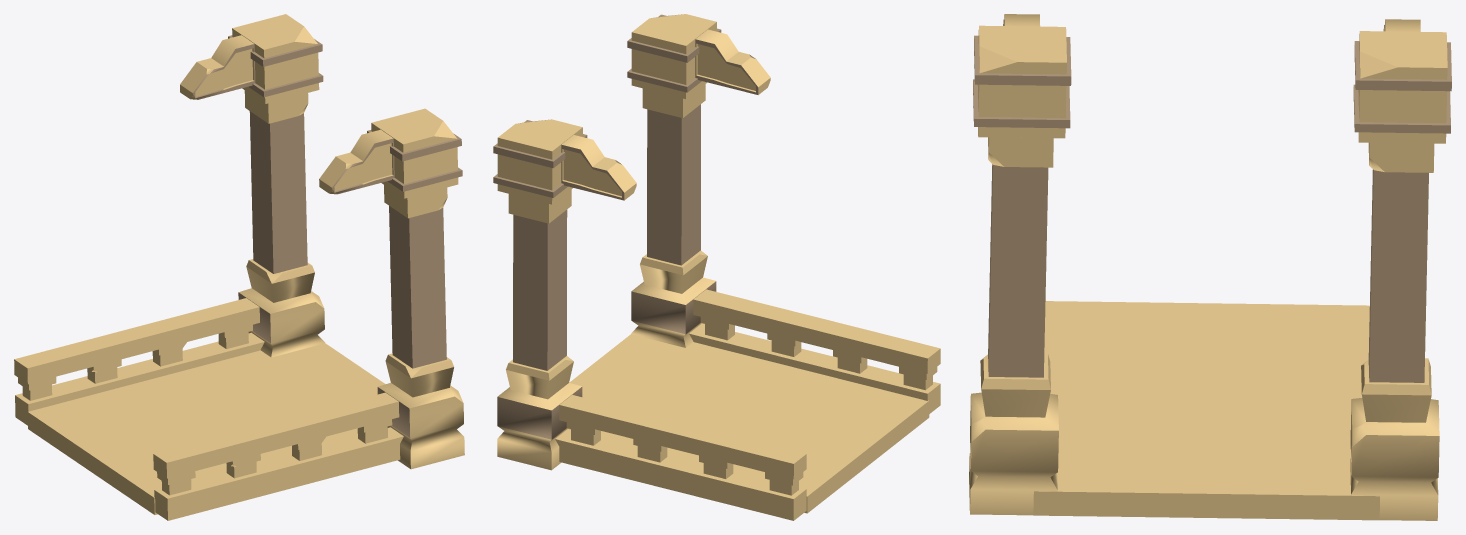
Rendered from platform  2 .fbx.
The picture shows the model from 3 angles, left to right: view 1: azimuth 30°, elevation 25°; view 2: azimuth 150°, elevation 25°; view 3: azimuth 270°, elevation 25°; orthographic projection. The views are drawn at different scales.
Visible parts, largest first — view 1: pCube17.020; view 2: pCube17.020; view 3: pCube17.020.
Boxes of the visible parts, x1,y1,x2,y2 form: pCube17.020: (14,14,464,520); pCube17.020: (493,14,940,520); pCube17.020: (969,14,1451,520).
Bounding box in the file's own units: 120 × 131 × 124.
